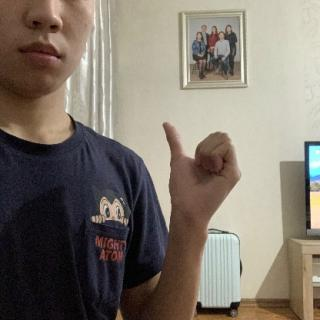WAW: (159, 115, 248, 233)
